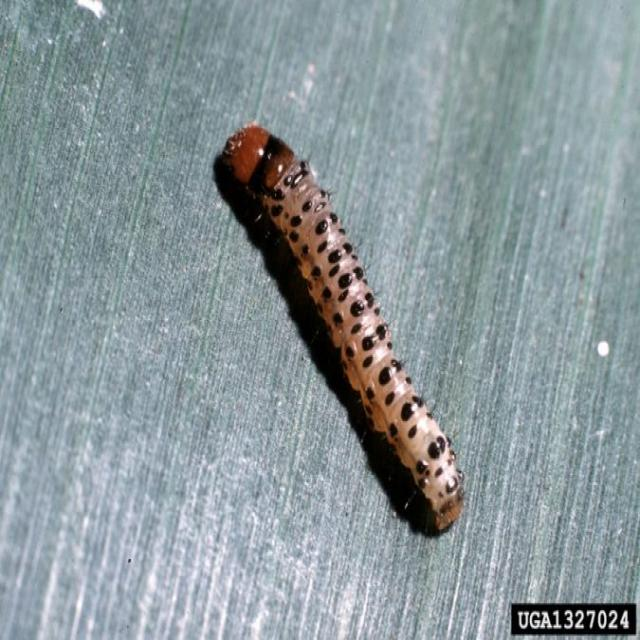cornborer-Larva-: (214, 111, 480, 532)
